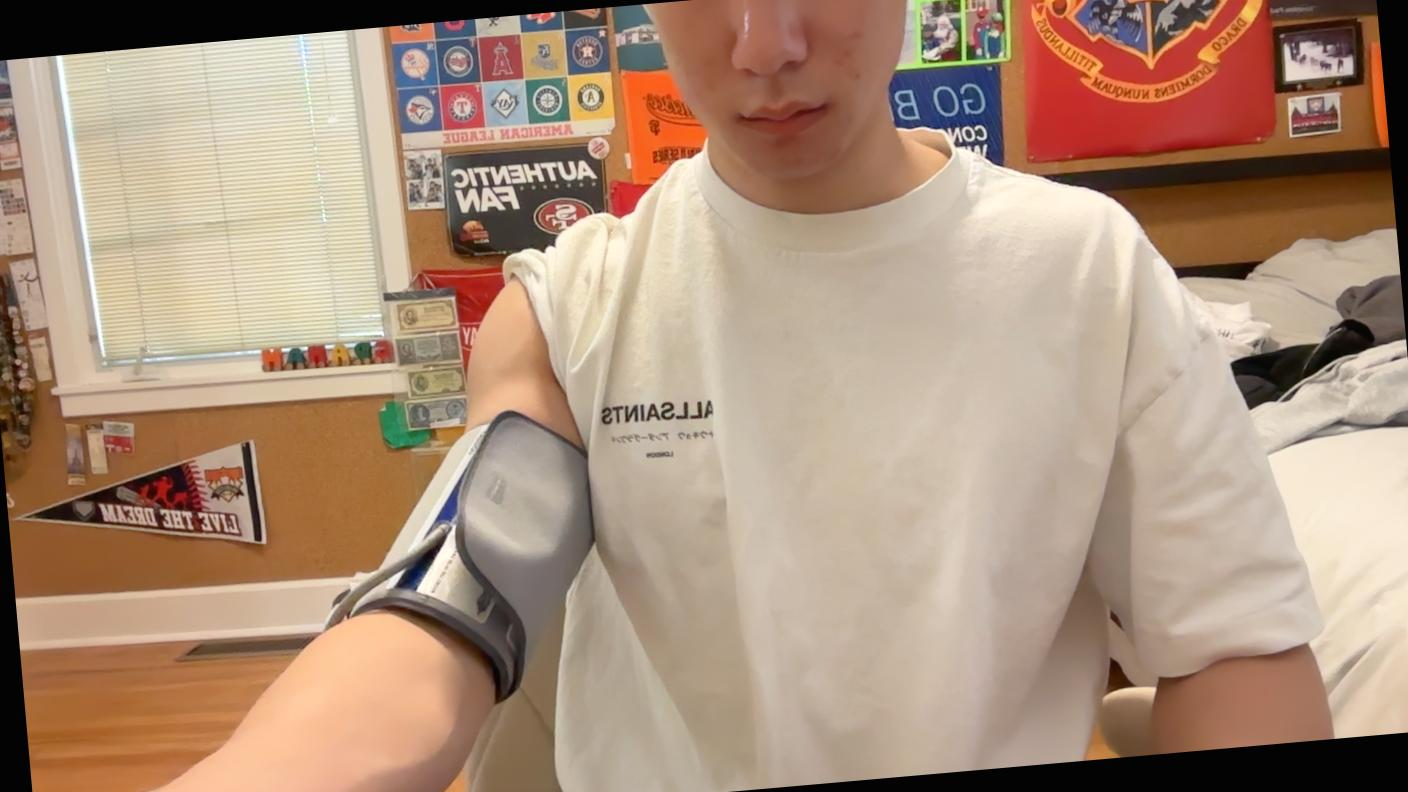cuff: (343, 413, 593, 703)
